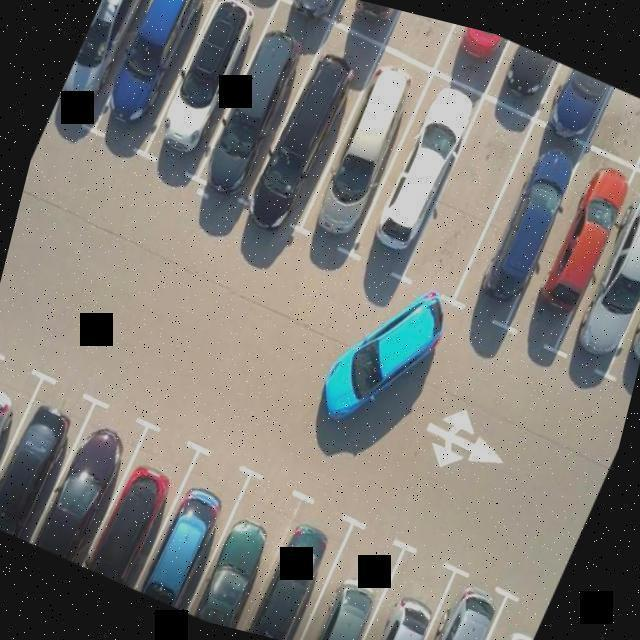space-empty: (400, 92, 537, 313), (380, 8, 458, 71), (586, 84, 640, 169)
space-occupied: (349, 64, 489, 291), (450, 119, 590, 337), (247, 10, 385, 229), (504, 144, 640, 362), (300, 36, 436, 254), (197, 0, 330, 207), (90, 0, 230, 166), (25, 393, 153, 574), (81, 416, 206, 596), (153, 0, 281, 173), (134, 443, 258, 620), (185, 465, 310, 638), (0, 362, 105, 551), (554, 160, 640, 373), (48, 0, 172, 142), (240, 494, 356, 640), (290, 515, 407, 640), (346, 535, 459, 640), (401, 565, 513, 640), (600, 189, 640, 391), (0, 353, 43, 525), (480, 38, 562, 126), (533, 61, 614, 146), (432, 22, 506, 94), (455, 589, 546, 640), (329, 0, 400, 45), (275, 0, 349, 30)
